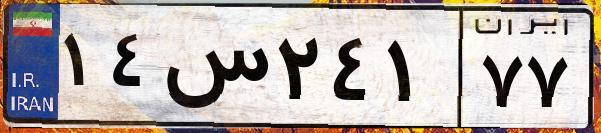1: (385, 28, 445, 110), (57, 26, 110, 100)
2: (270, 28, 330, 110)
4: (330, 28, 385, 110), (110, 28, 158, 98)
7: (475, 38, 525, 113), (525, 38, 570, 115)
س: (158, 20, 270, 120)
